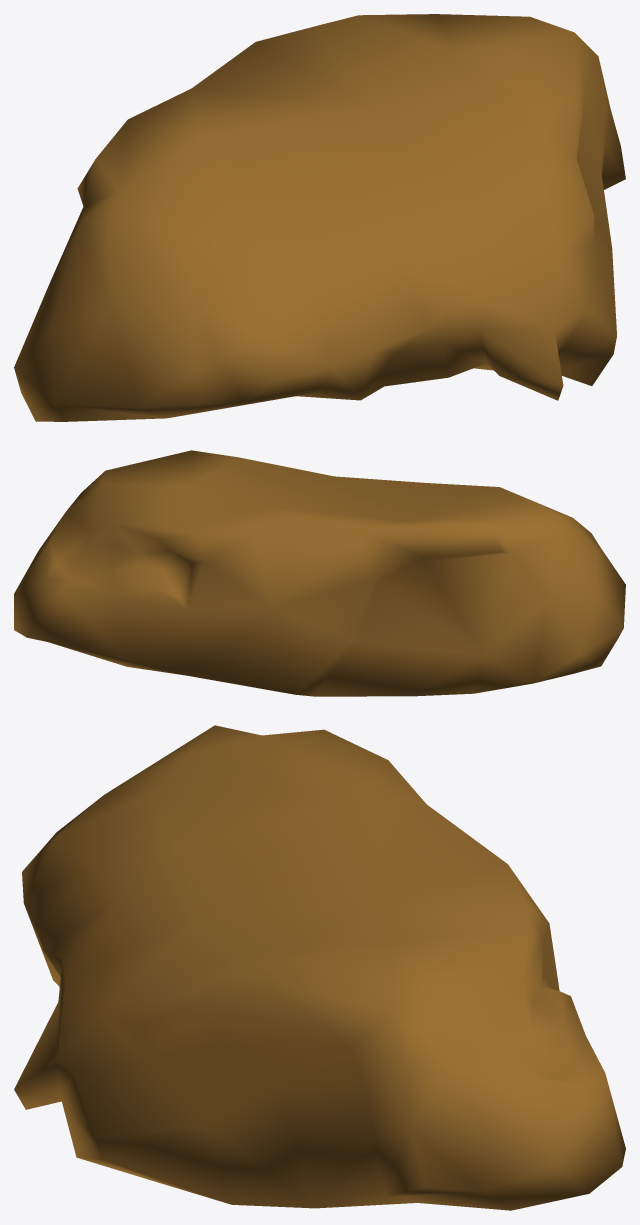
File: MSH_Rock_Single_21.FBX
3 views of the same model, one above another, from view 1: azimuth 30°, elevation 25°; view 2: azimuth 150°, elevation 25°; view 3: azimuth 270°, elevation 25° (orthographic). The views are drawn at different scales.
Visible parts, largest first — view 1: MESH_LOD0; view 2: MESH_LOD0; view 3: MESH_LOD0.
Part boxes in pixels (<box>): MESH_LOD0: <box>14,14,625,421</box>; MESH_LOD0: <box>14,450,625,696</box>; MESH_LOD0: <box>14,725,625,1210</box>.
Size of what is drawn, in the model's own units: 27.02 by 9.54 by 20.23.
